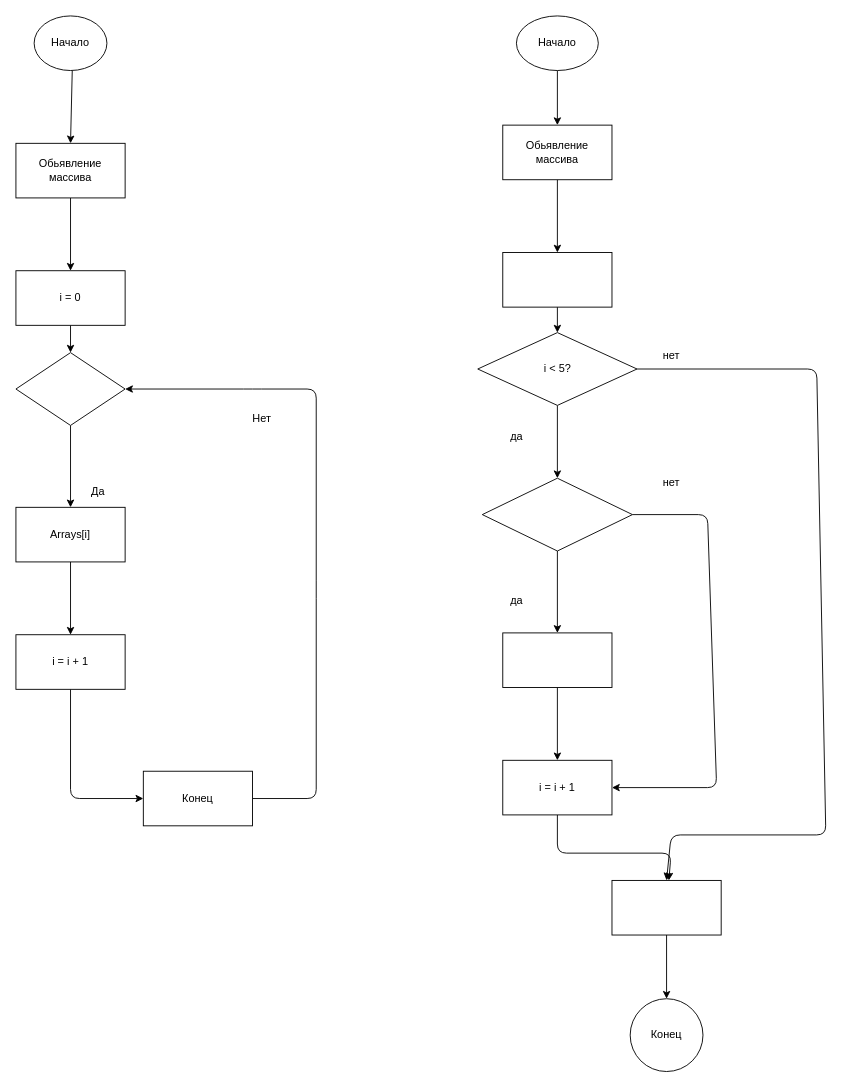
This 849x1087 diagram has some shape labels left out. The shapes that lost their labels are listed below. From the top down, each one's centre as x and y in pixels, then its label:
At pixel 557 279: "max = 0 i = 1".
At pixel 70 388: "i < len(Arrays)&".
At pixel 556 514: "Array[i] > max".
At pixel 557 660: "max = Array[i]".
At pixel 666 907: "Вывод max".
